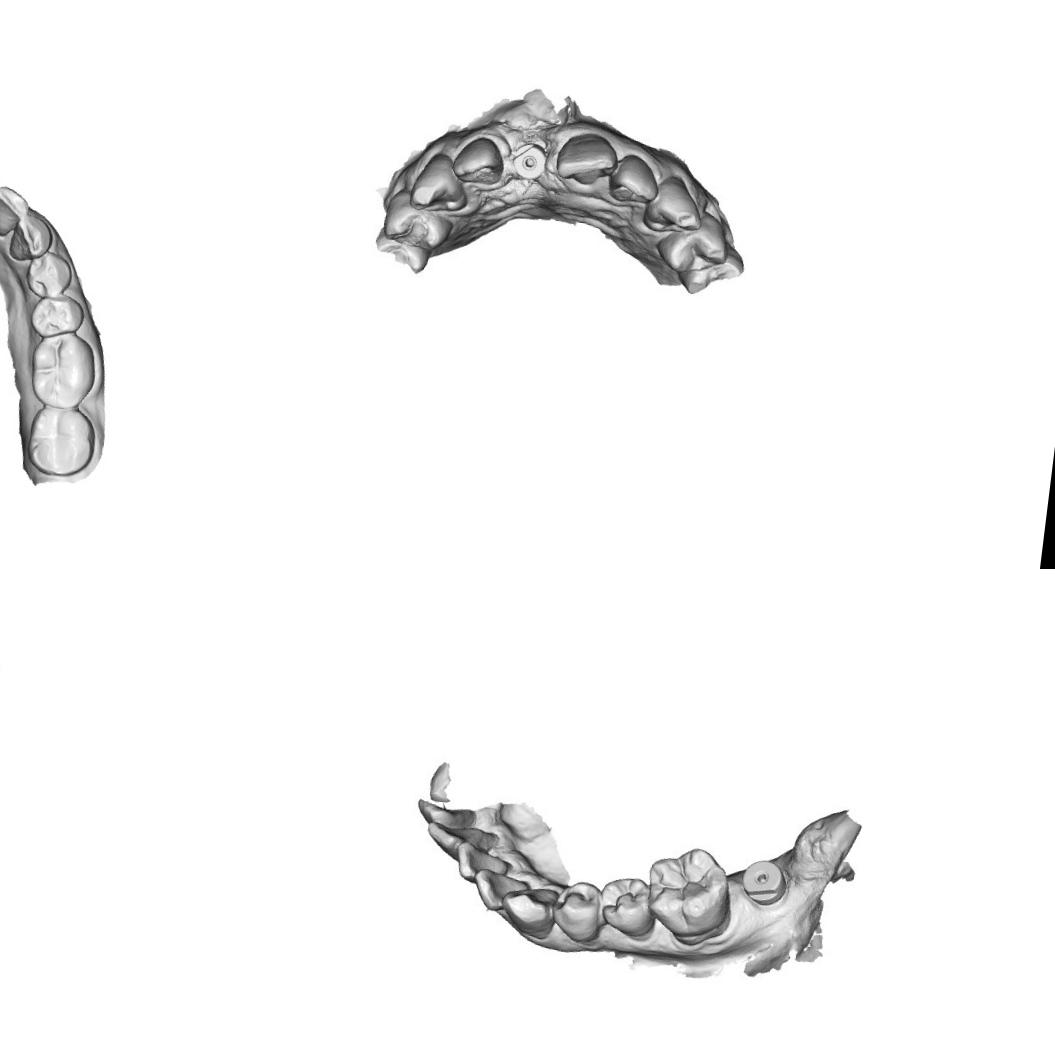canine: (642, 170, 706, 241), (408, 149, 472, 215), (502, 880, 560, 936), (7, 212, 56, 266)
implant: (741, 856, 795, 905), (512, 141, 550, 183)
incisor: (550, 129, 620, 194), (605, 150, 664, 210), (450, 134, 508, 192), (426, 819, 499, 858), (455, 839, 510, 886), (473, 866, 527, 912), (0, 184, 32, 238)
molar: (639, 838, 739, 936), (25, 328, 100, 412), (24, 402, 100, 480)
premolar: (655, 209, 732, 280), (379, 186, 454, 253), (548, 879, 614, 944), (594, 872, 656, 934), (28, 290, 88, 342), (22, 248, 75, 301)
